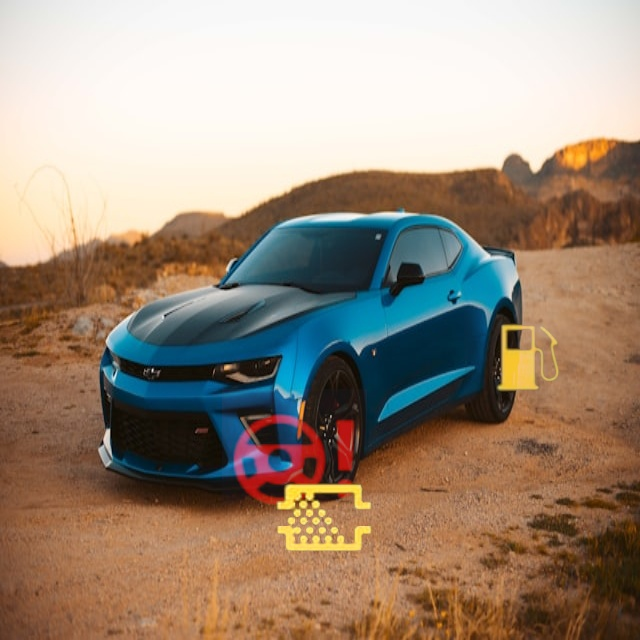symbol: (243, 437, 407, 601), (222, 389, 367, 534), (464, 294, 593, 423)
